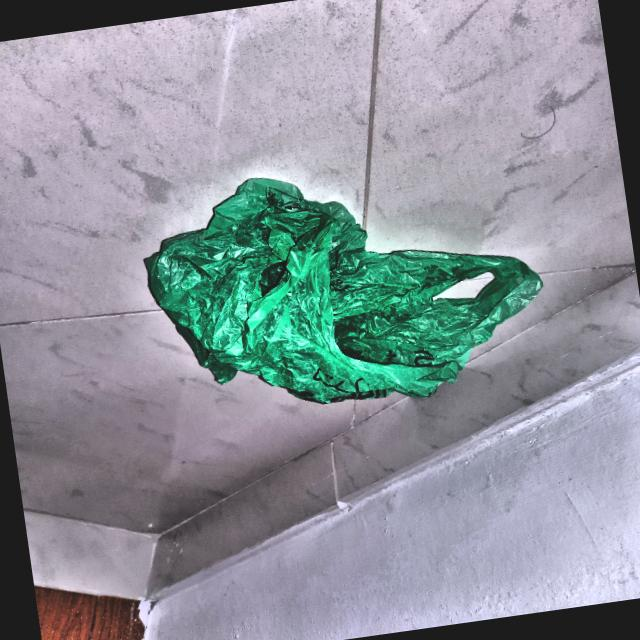plastic bag: (124, 146, 556, 429)
